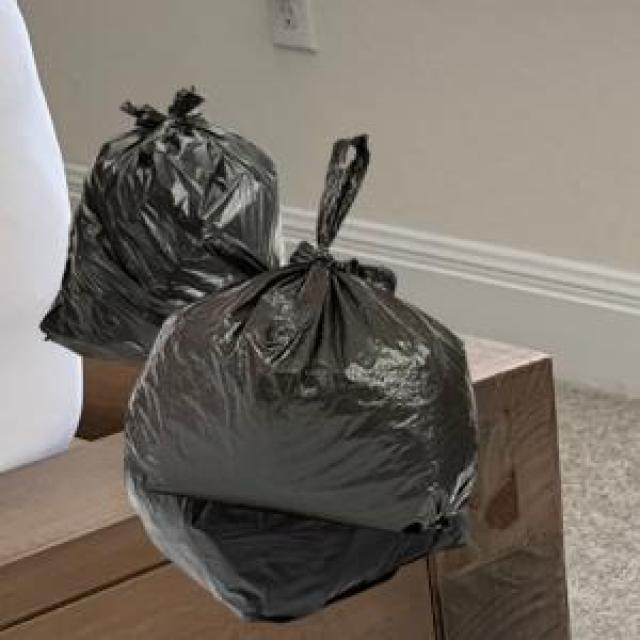waste: (42, 90, 476, 617)
